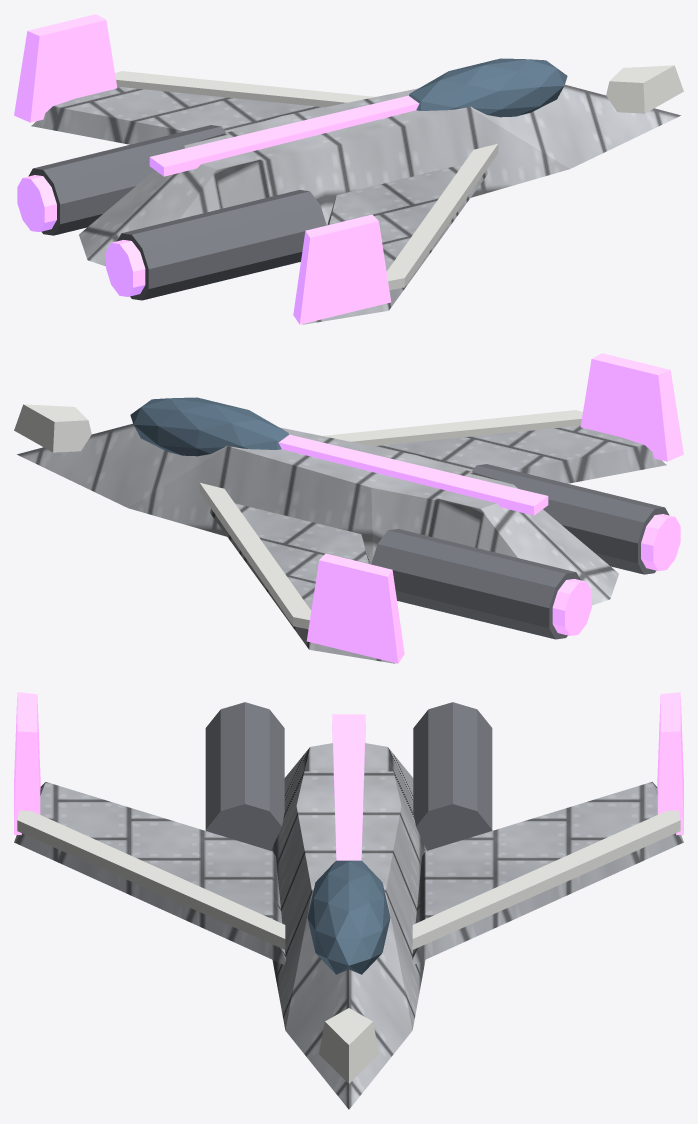
Rendered from fighter_p1_iris.glb.
3 views of the same model, one above another, from view 1: azimuth 30°, elevation 25°; view 2: azimuth 150°, elevation 25°; view 3: azimuth 270°, elevation 25° (orthographic). The views are drawn at different scales.
Size of the model in its own units: 12.3 by 2.17 by 10.
6 materials, 2 textured.
